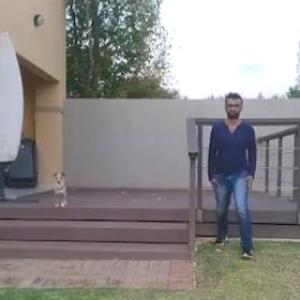follow: (209, 91, 258, 249)
